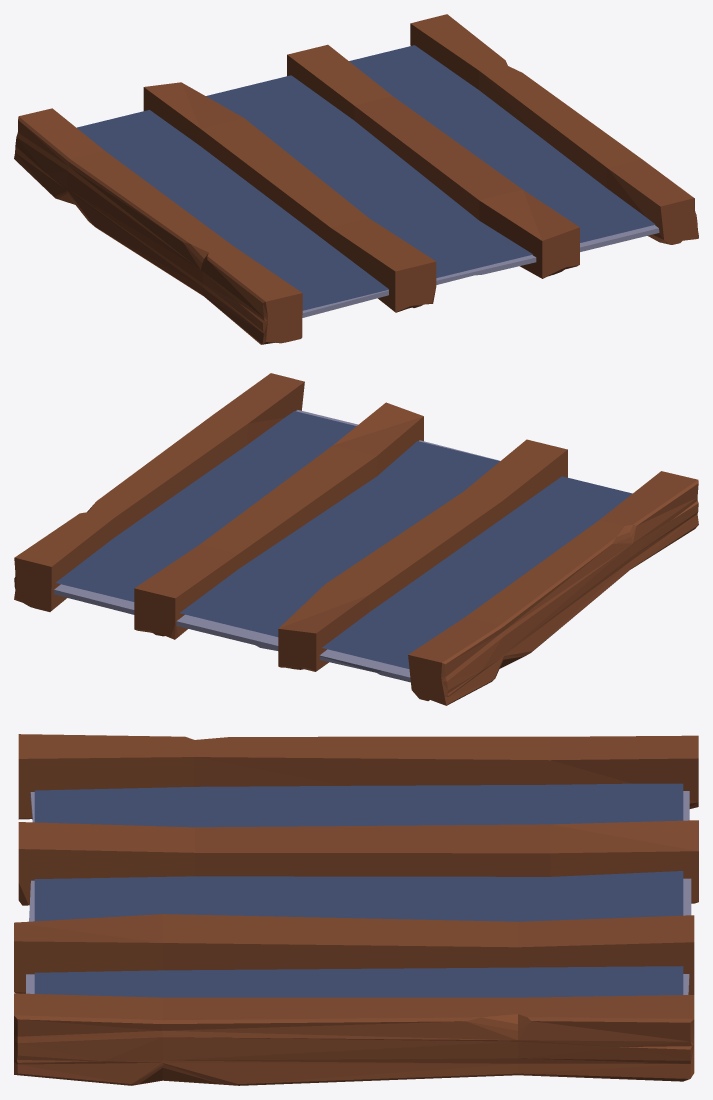
File: ceiling_tiles_bothendings02.fbx
3 views of the same model, one above another, from view 1: azimuth 30°, elevation 25°; view 2: azimuth 150°, elevation 25°; view 3: azimuth 270°, elevation 25° (orthographic). The views are drawn at different scales.
Parts seen in each view (by area): view 1: Plane; view 2: Plane; view 3: Plane.
Boxes of the visible parts, left/top/right/bottom form: Plane: left=14, top=14, right=698, bottom=344; Plane: left=14, top=373, right=698, bottom=705; Plane: left=14, top=734, right=698, bottom=1085.
Bounding box in the file's own units: 501 × 55.53 × 500.
